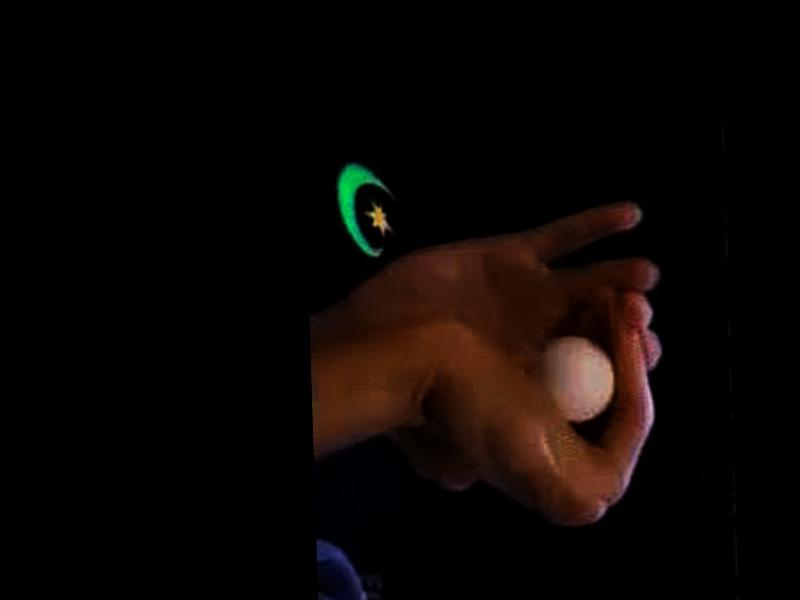Eggs: (546, 332, 618, 425)
